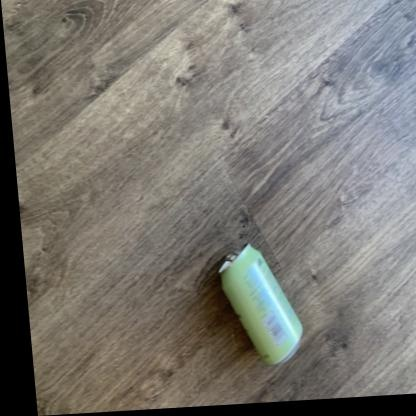trash: (219, 244, 302, 363)
